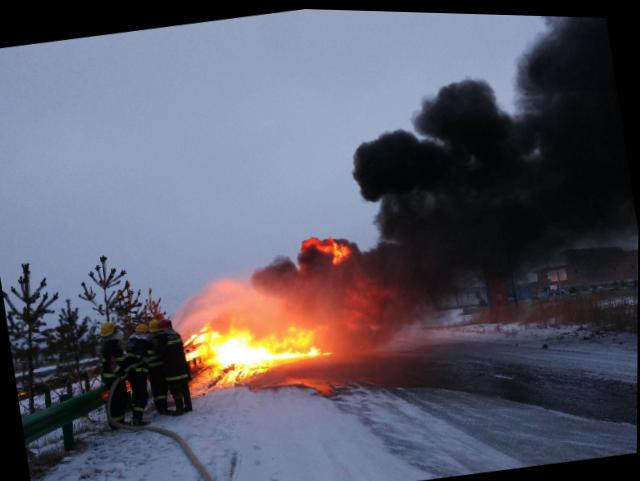fire: (173, 233, 371, 392)
